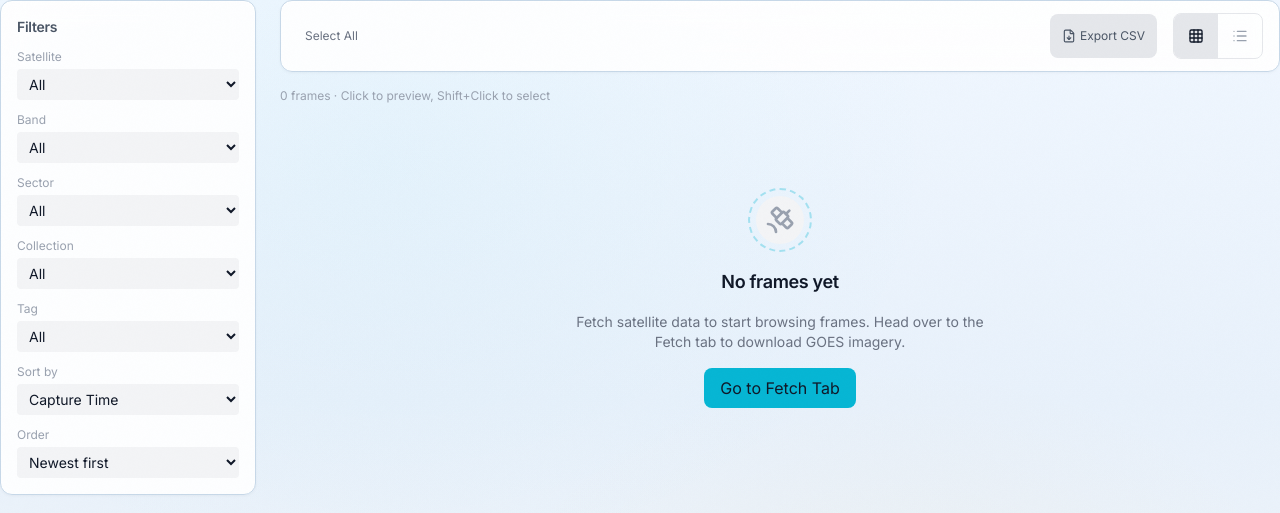
Test: BrowseTab — clear filters button › shows "Clear all" when a filter is active and resets on click
// Set a filter using userEvent
Select "G16" in the dropdown with id "browse-satellite". click: (128,84)
box: [17,69,239,100]
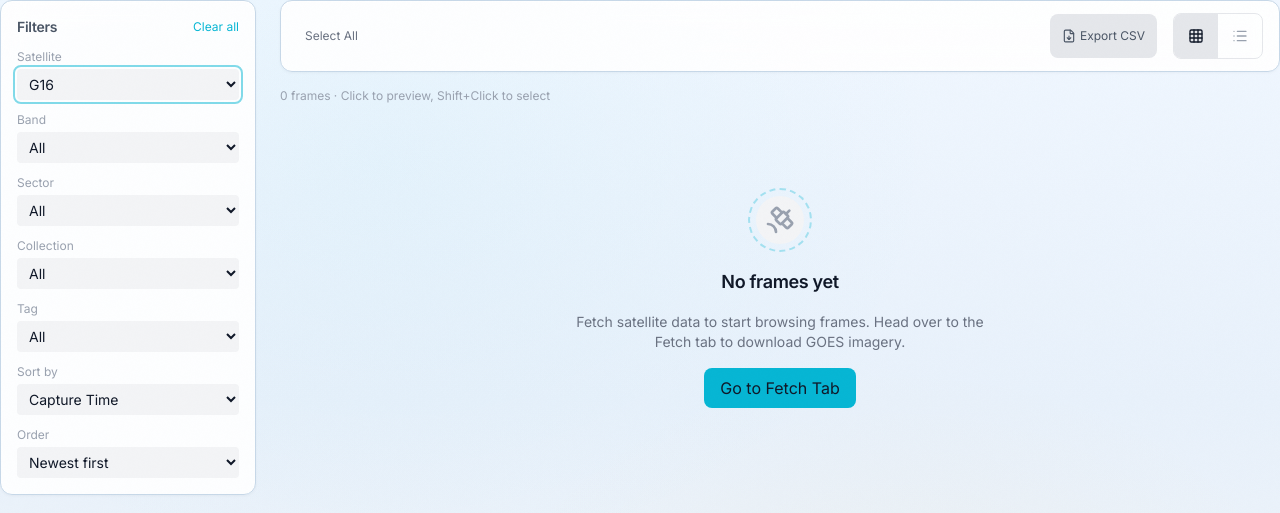
Check: the button "Clear all" is shown
Click the button "Clear all". click: (216,27)
box: [193,19,239,35]
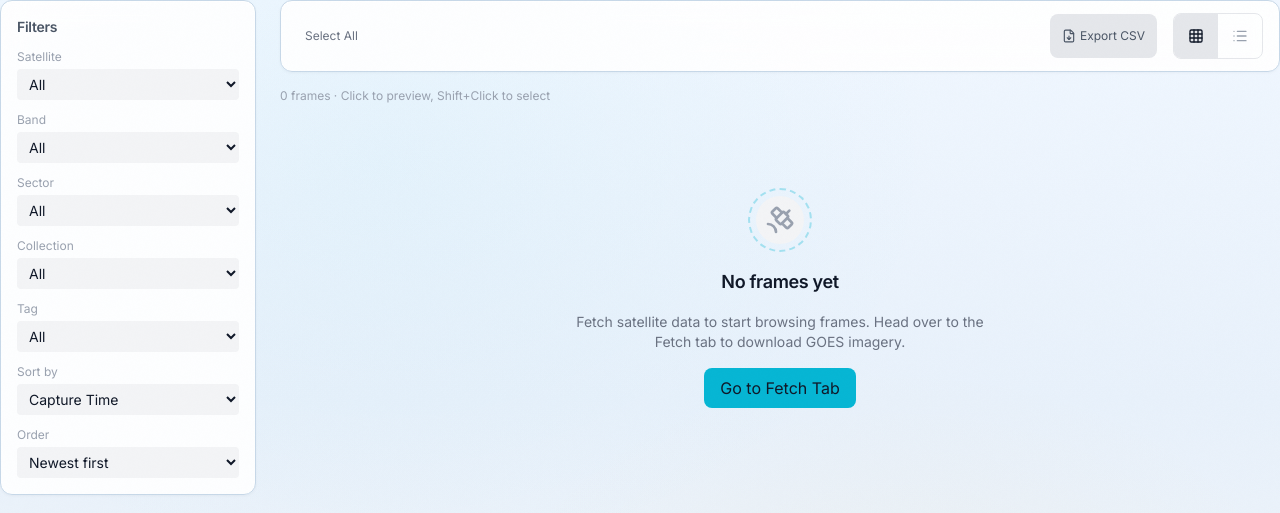
Check: the button "Clear all" is gone
